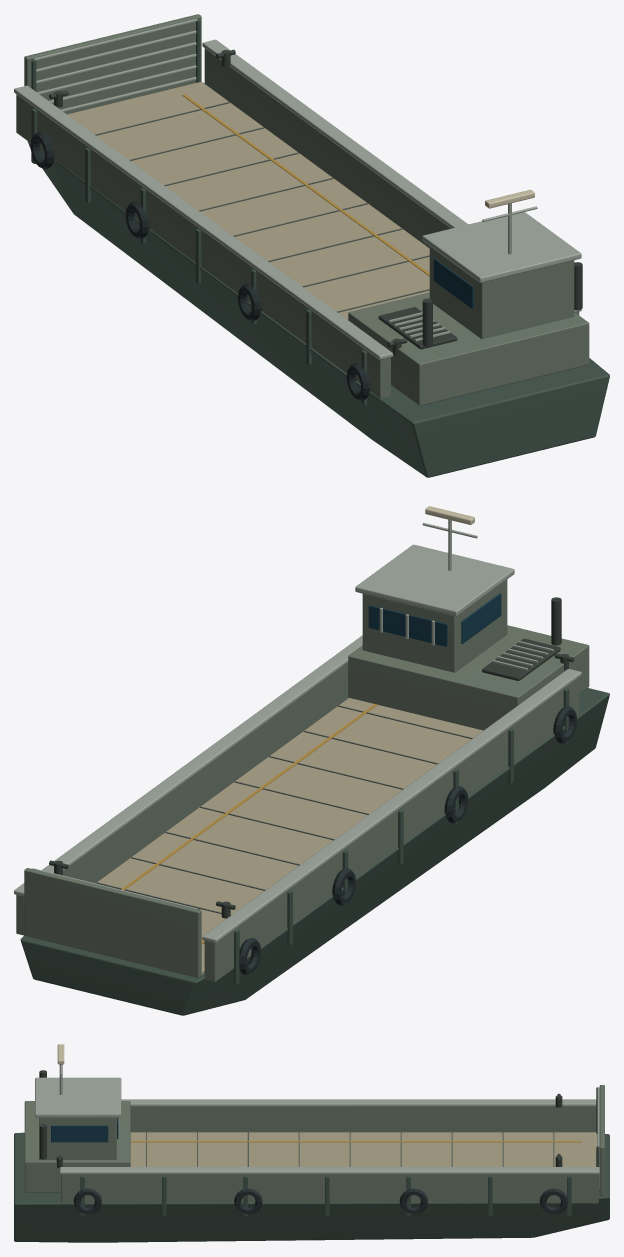
The model's file is cas_heavy_landing_craft.glb.
3 renders of one model, top to bottom at view 1: azimuth 30°, elevation 25°; view 2: azimuth 150°, elevation 25°; view 3: azimuth 270°, elevation 25°, orthographic. The views are drawn at different scales.
Visible parts, largest first — view 1: Hull, RampVisual; view 2: Hull, RampVisual; view 3: Hull, RampVisual.
Boxes of the visible parts, x1,y1,x2,y2 form: Hull: [14, 39, 609, 477]; RampVisual: [24, 14, 201, 114]; Hull: [14, 506, 609, 1015]; RampVisual: [24, 868, 201, 977]; Hull: [14, 1044, 609, 1242]; RampVisual: [596, 1085, 604, 1195].
Bounding box in the file's own units: 7.14 × 7.39 × 23.4.
